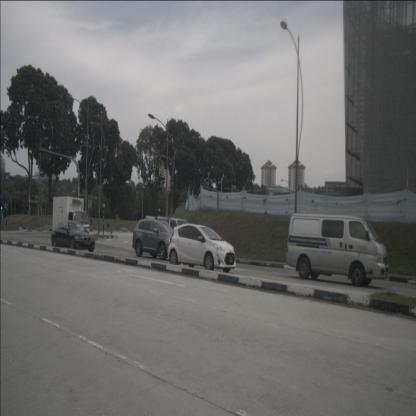vehicle-car: (286, 213, 389, 286), (168, 224, 236, 273), (132, 218, 182, 262), (51, 221, 95, 252)
vehicle-truck: (52, 197, 90, 243)
